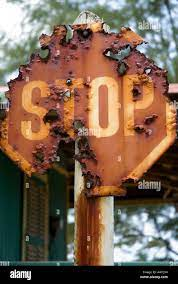Stop: (6, 30, 175, 203)
